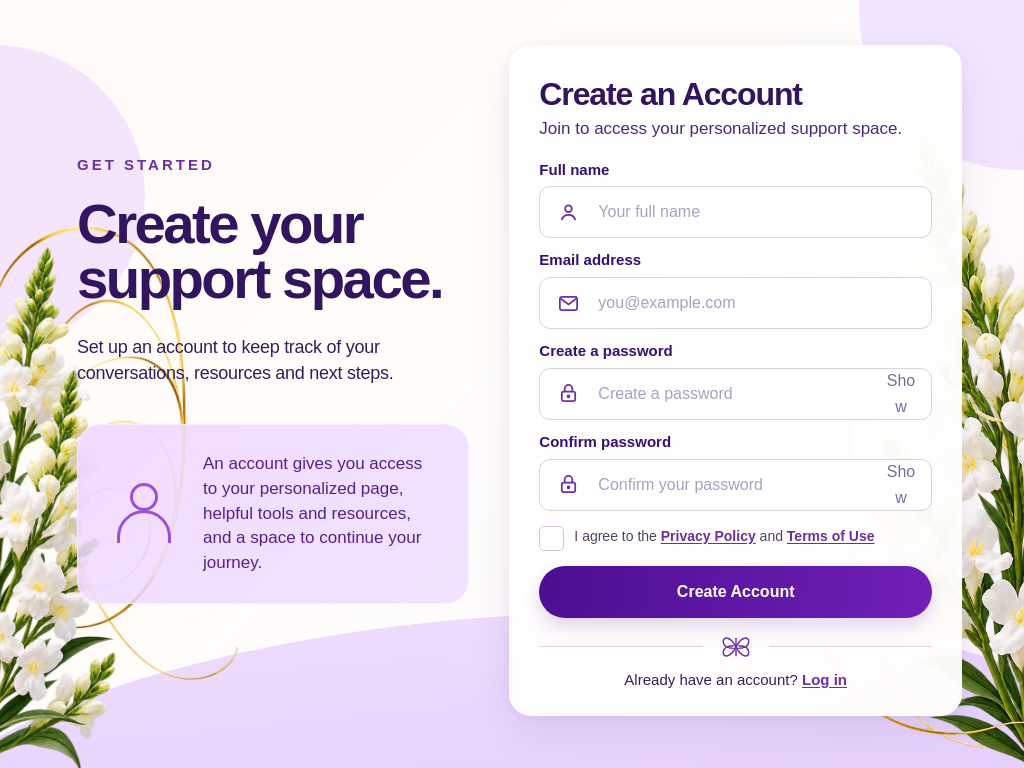
Test: Signup page › opens the email verification window after signup
The width and height of the screenshot is (1024, 768).
Step 1. Type "Jane Doe" into the field labelled "Full name" → point(736, 212), box [539,186,932,238]
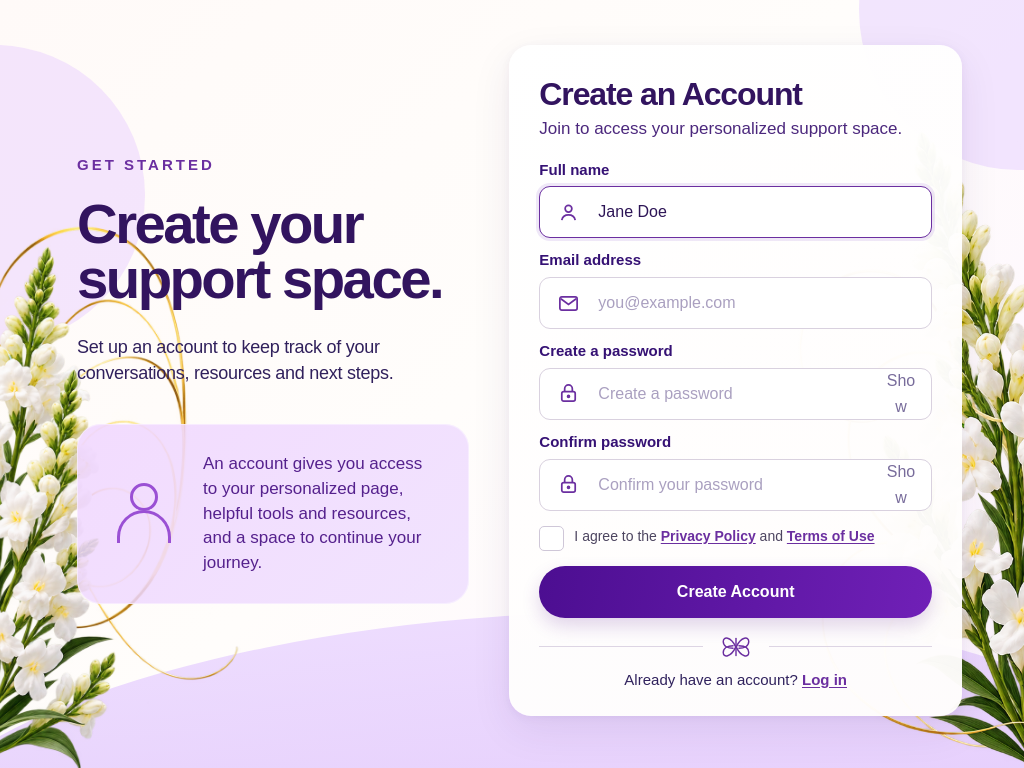
Step 2. Type "jane@mail.com" into the field labelled "Email address" → point(736, 303), box [539,277,932,329]
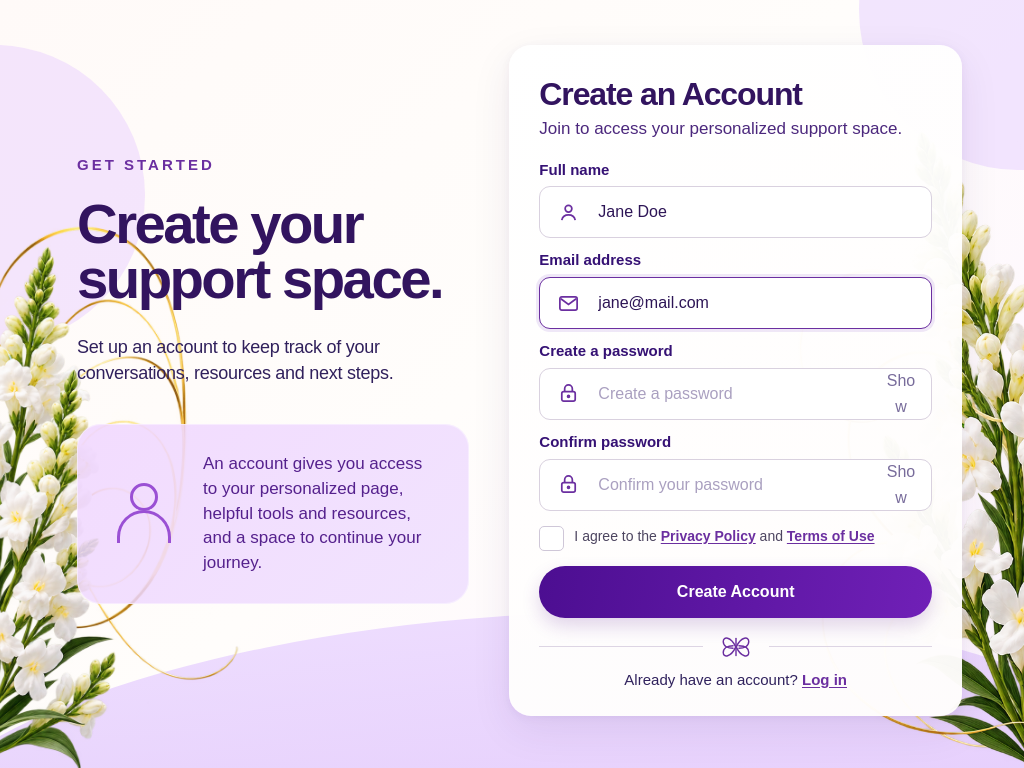
Step 3. Type "Password123" into the password field labelled "Create a password" → point(736, 394), box [539,368,932,420]
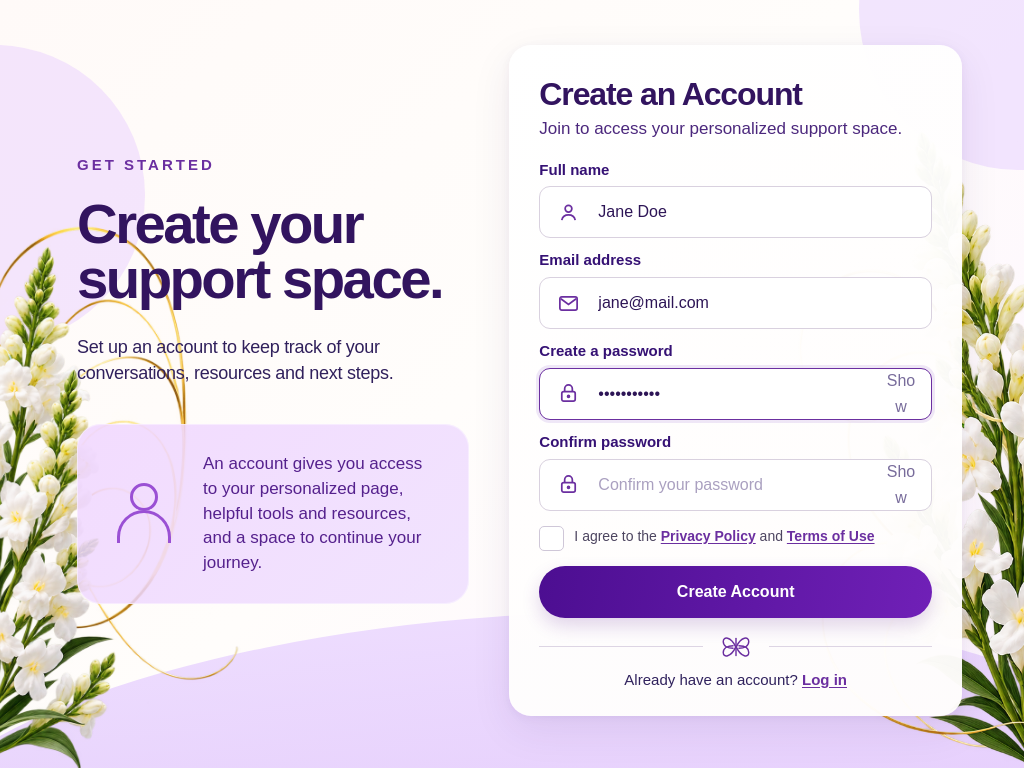
Step 4. Type "Password123" into the password field labelled "Confirm password" → point(736, 485), box [539,459,932,511]
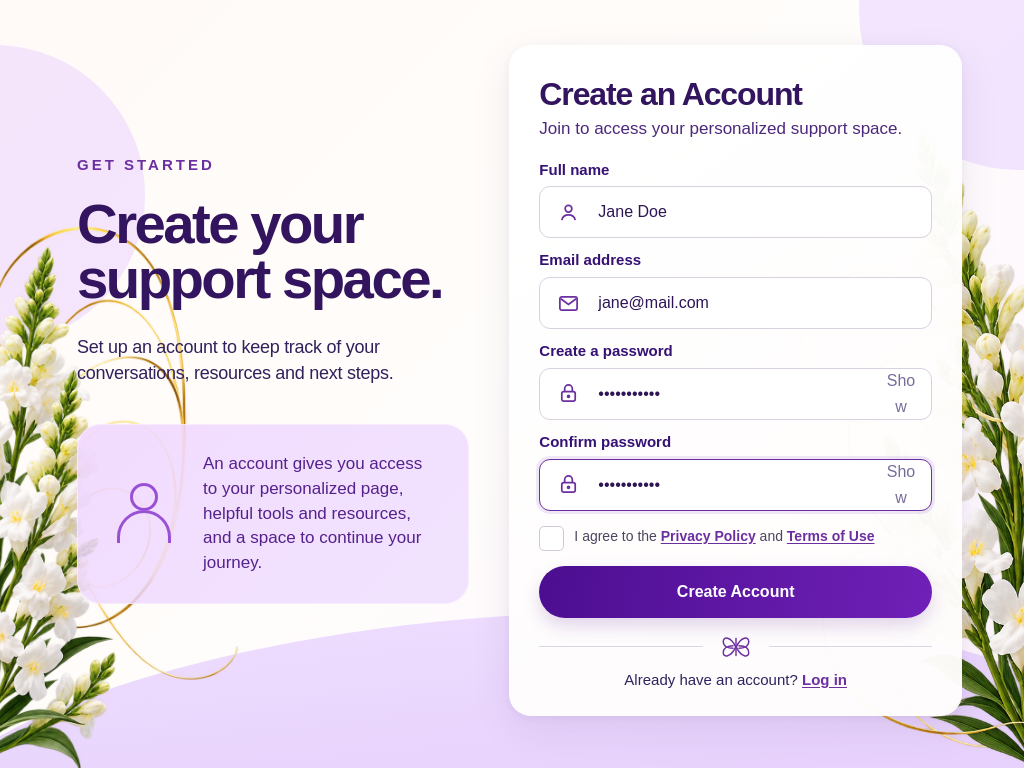
Step 5. Click the checkbox → point(736, 538), box [539,526,932,551]
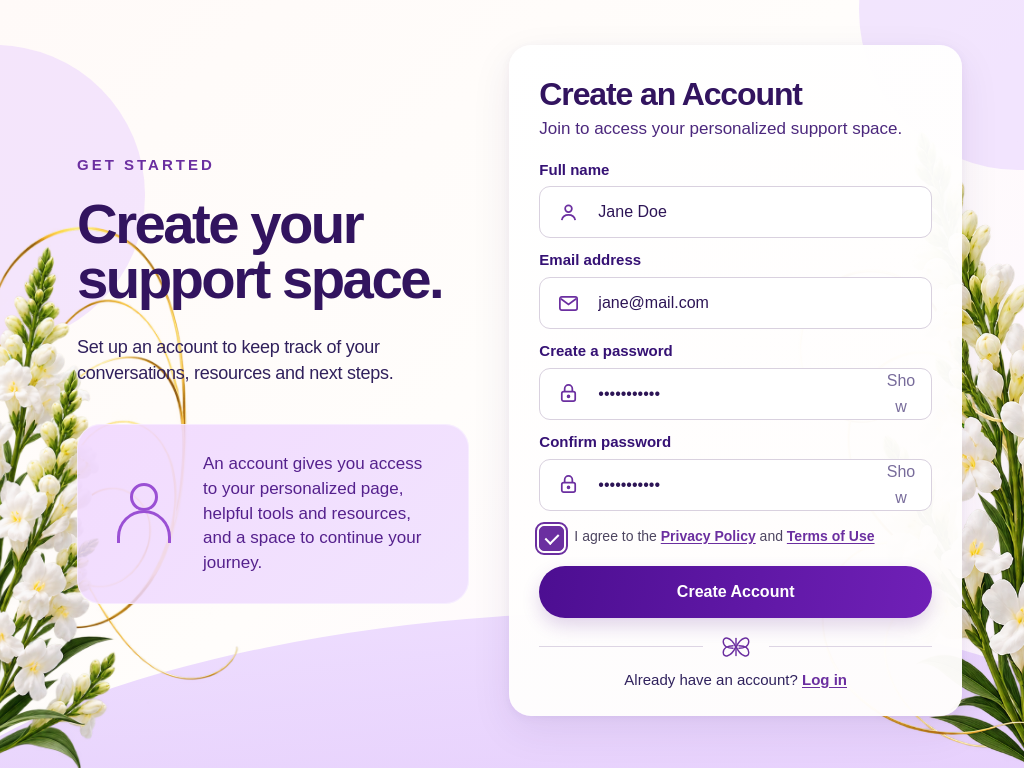
Step 6. Click the button "Create Account" → point(736, 592), box [539,566,932,618]
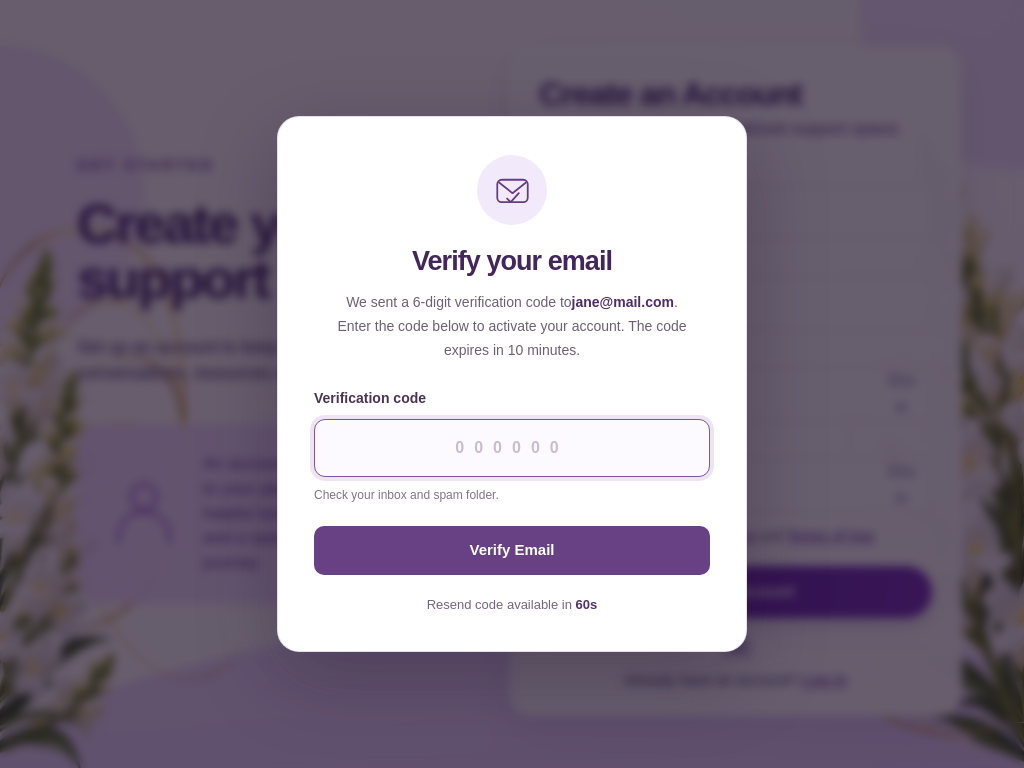
Expected: the dialog shows "Verify your email", [412,246,612,276]
Expected: the dialog shows "jane@mail.com", [572,294,674,310]
